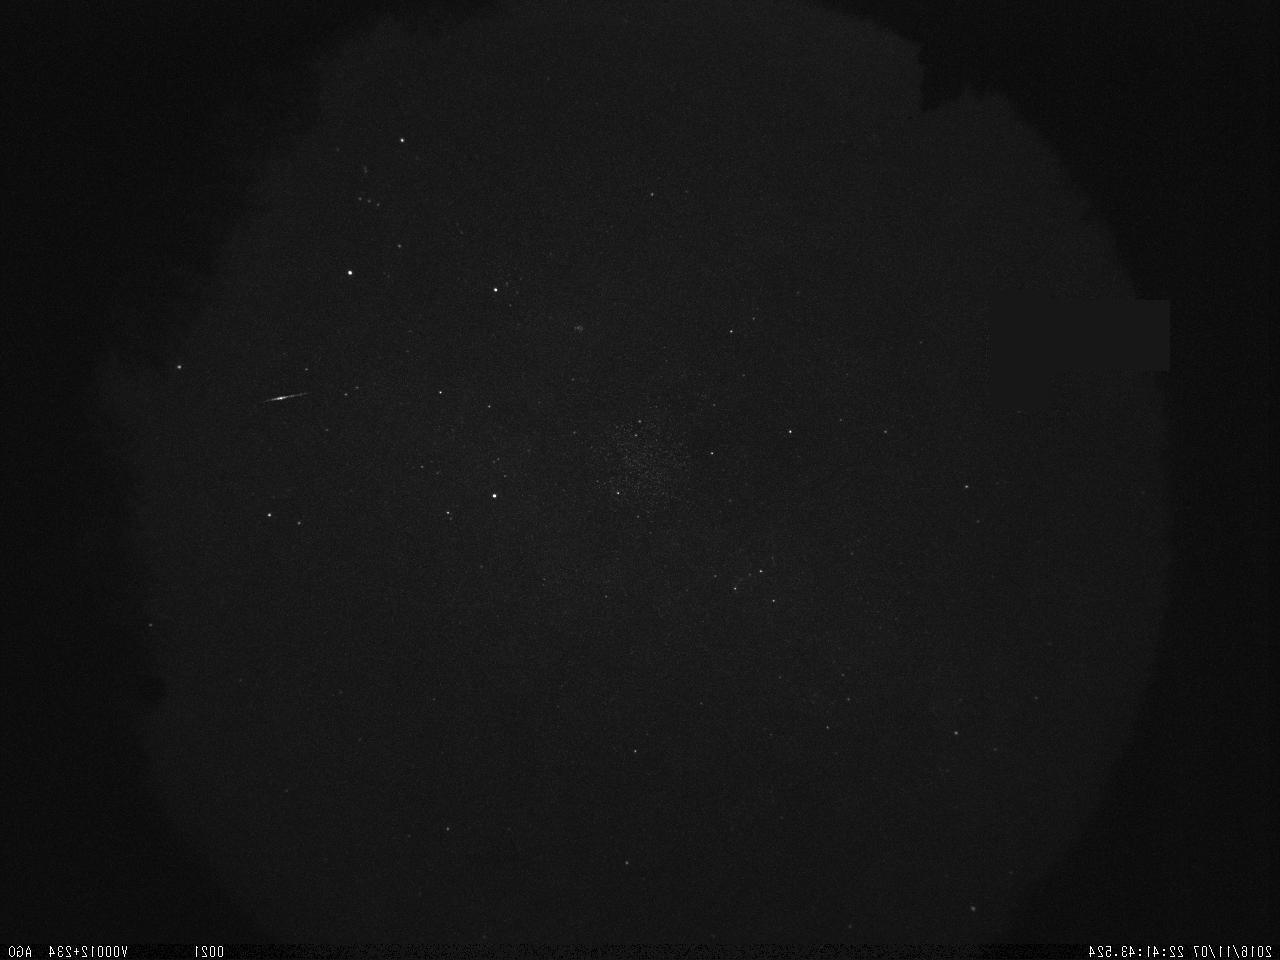meteor: (258, 382, 309, 414)
